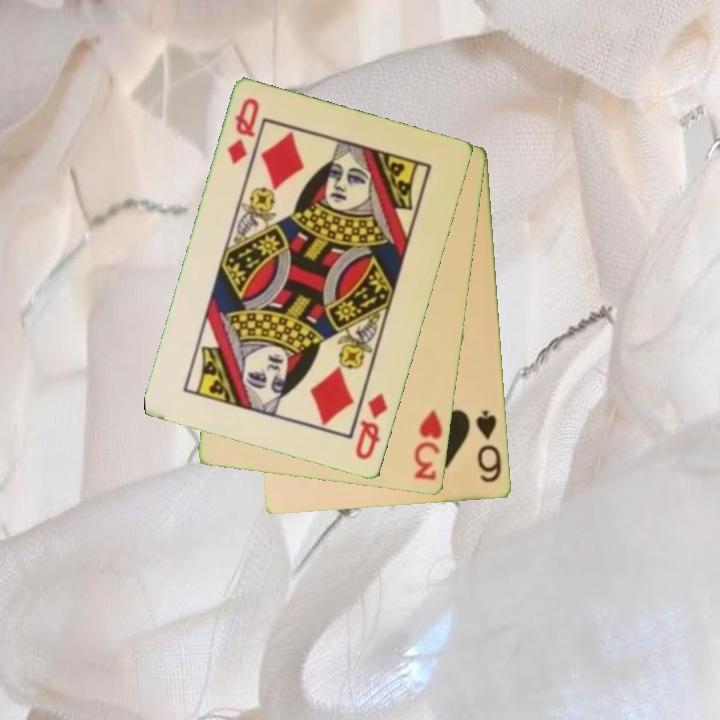3h: (411, 407, 446, 484)
6s: (472, 407, 505, 486)
Qd: (224, 95, 263, 169), (352, 390, 391, 463)
